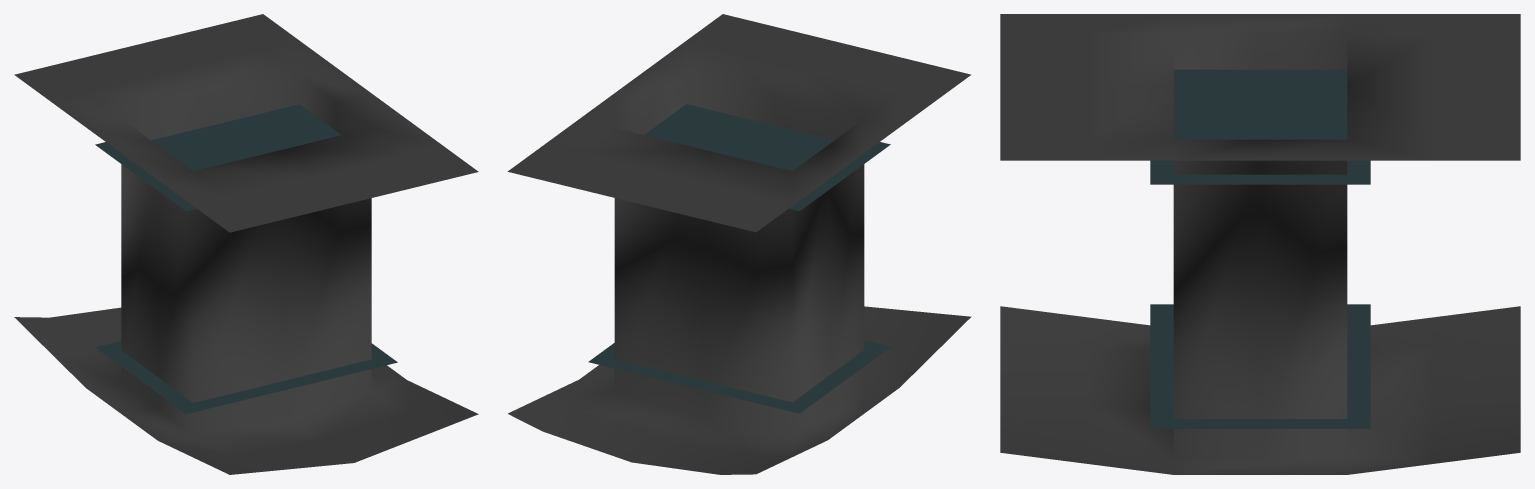
File: a-window.fbx
3 renders of one model, left to right at view 1: azimuth 30°, elevation 25°; view 2: azimuth 150°, elevation 25°; view 3: azimuth 270°, elevation 25°, orthographic. The views are drawn at different scales.
Visible parts, largest first — view 1: wall1_004; view 2: wall1_004; view 3: wall1_004.
Boxes of the visible parts, box(x1,y1,x2,y2) form: wall1_004: box(14, 14, 478, 474); wall1_004: box(507, 14, 971, 474); wall1_004: box(1000, 14, 1520, 474).
Bounding box in the file's own units: 2 × 2.06 × 3.
